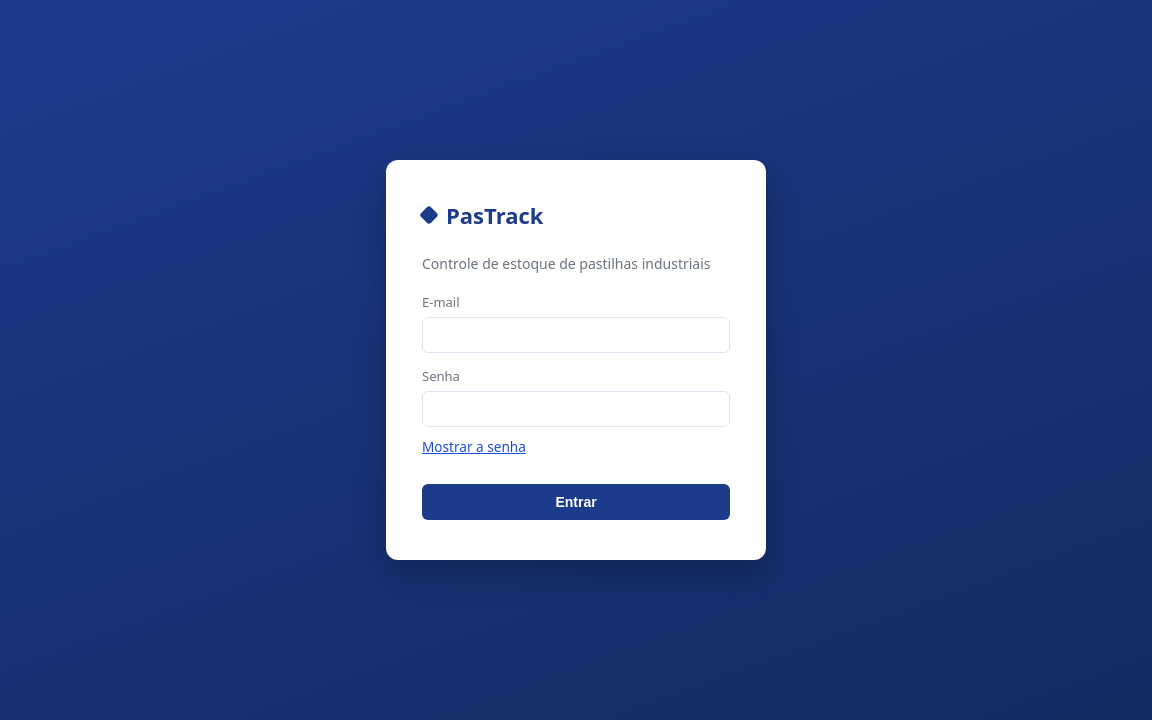
it: página de login › com resposta 401, mostra a mensagem 'E-mail ou senha inválidos' vinda do servidor
Type "admin@pastrack.com" into the field labelled "E-mail" at (576, 335), box [422,317,730,353]
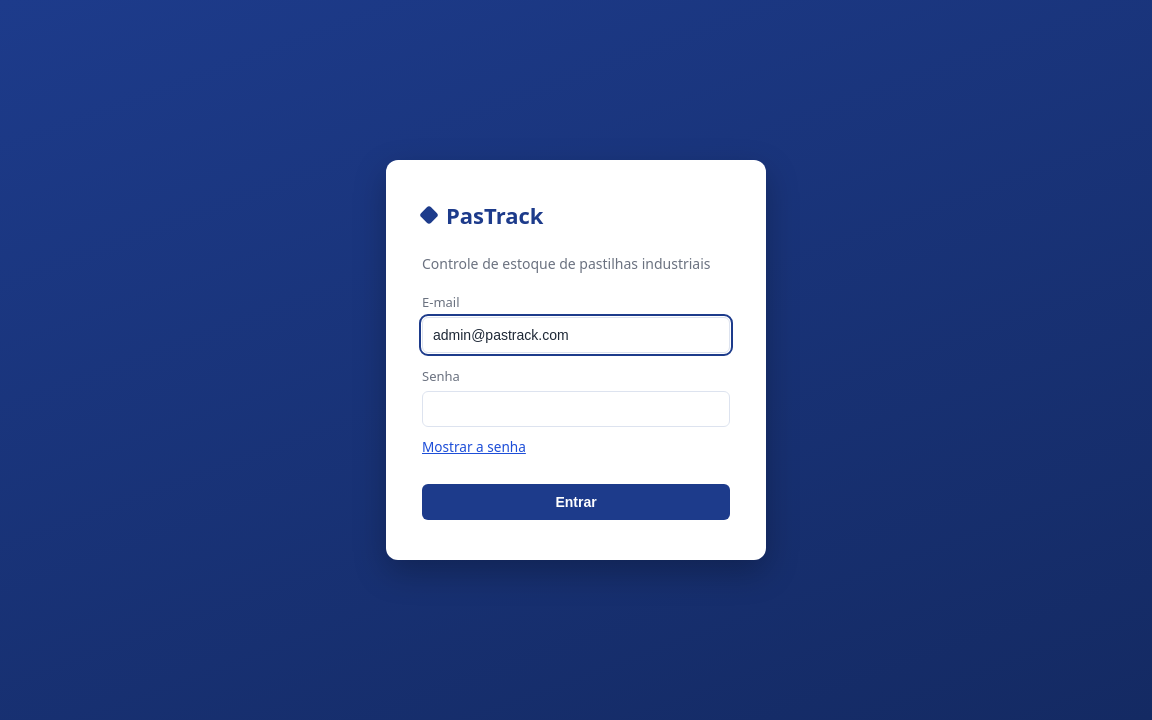
Type "senha-errada" into the password field labelled "Senha" at (576, 409), box [422,391,730,427]
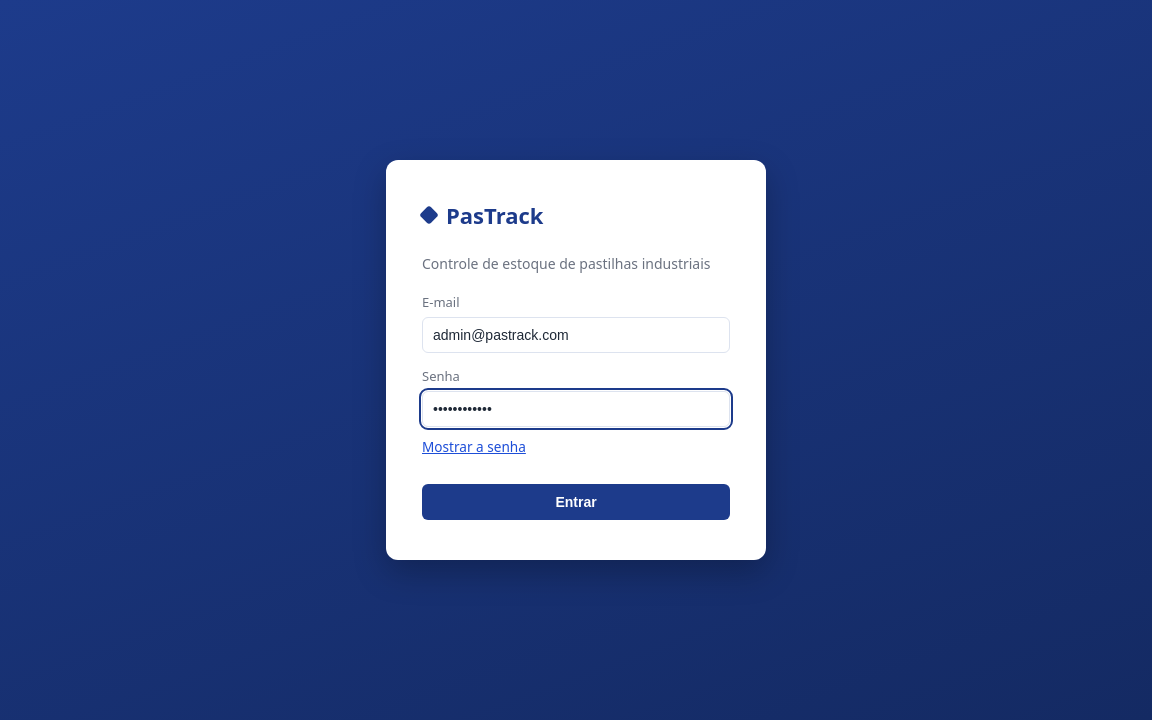
Click the button "Entrar" at (576, 502), box [422,484,730,520]
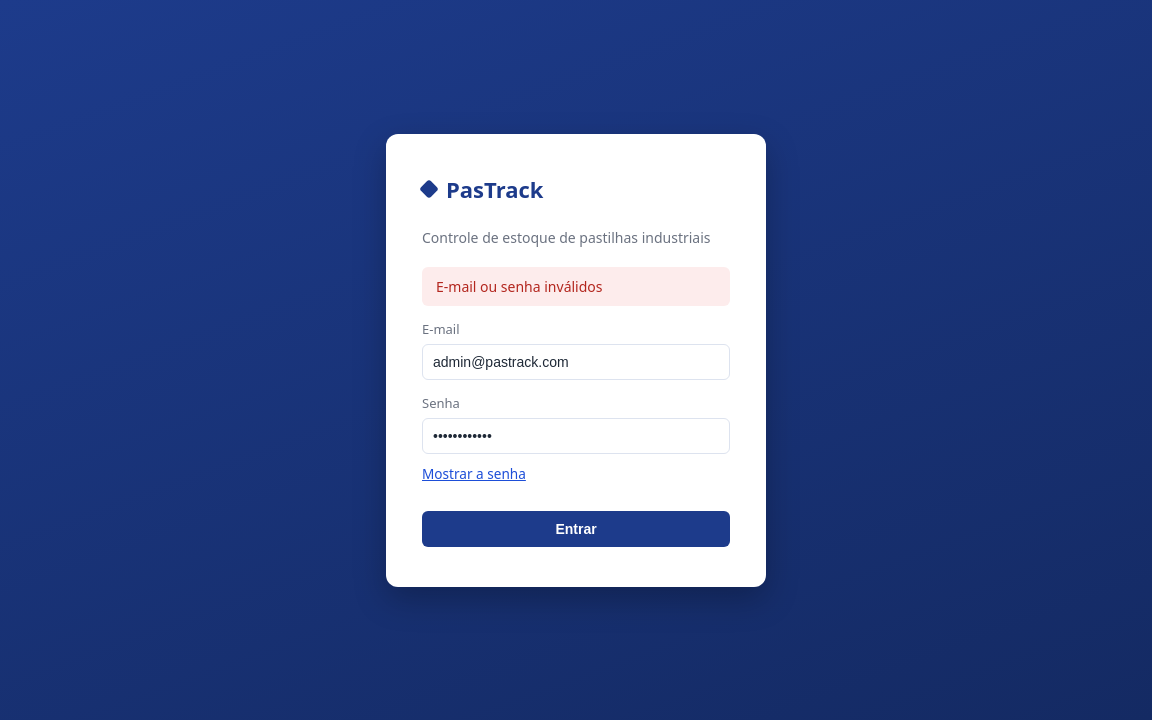
Expected: the button "Entrar" is enabled, [422,510,730,546]
Expected: the message reads "E-mail ou senha inválidos", [436,276,602,296]
